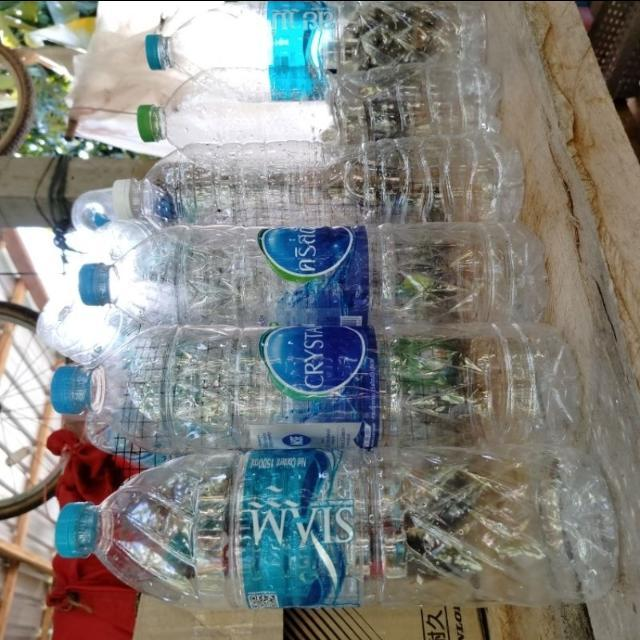PET Bottle: (39, 451, 640, 616), (18, 324, 639, 458), (23, 228, 640, 343), (86, 135, 612, 230), (92, 0, 530, 76), (91, 71, 558, 137)
